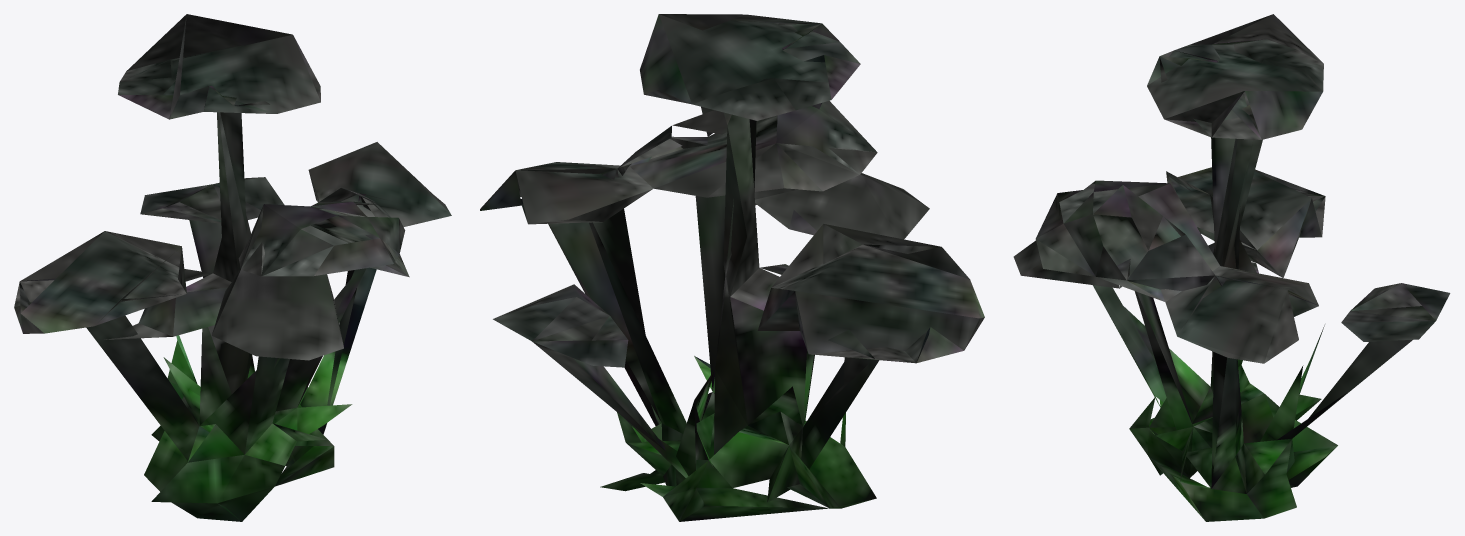
Rendered from alien_fungus_396251345_lod1.glb.
The picture shows the model from 3 angles, left to right: view 1: azimuth 30°, elevation 25°; view 2: azimuth 150°, elevation 25°; view 3: azimuth 270°, elevation 25°; orthographic projection. The views are drawn at different scales.
Size of the model in its own units: 2.3 by 2.39 by 2.05.
1 material, 1 textured.
